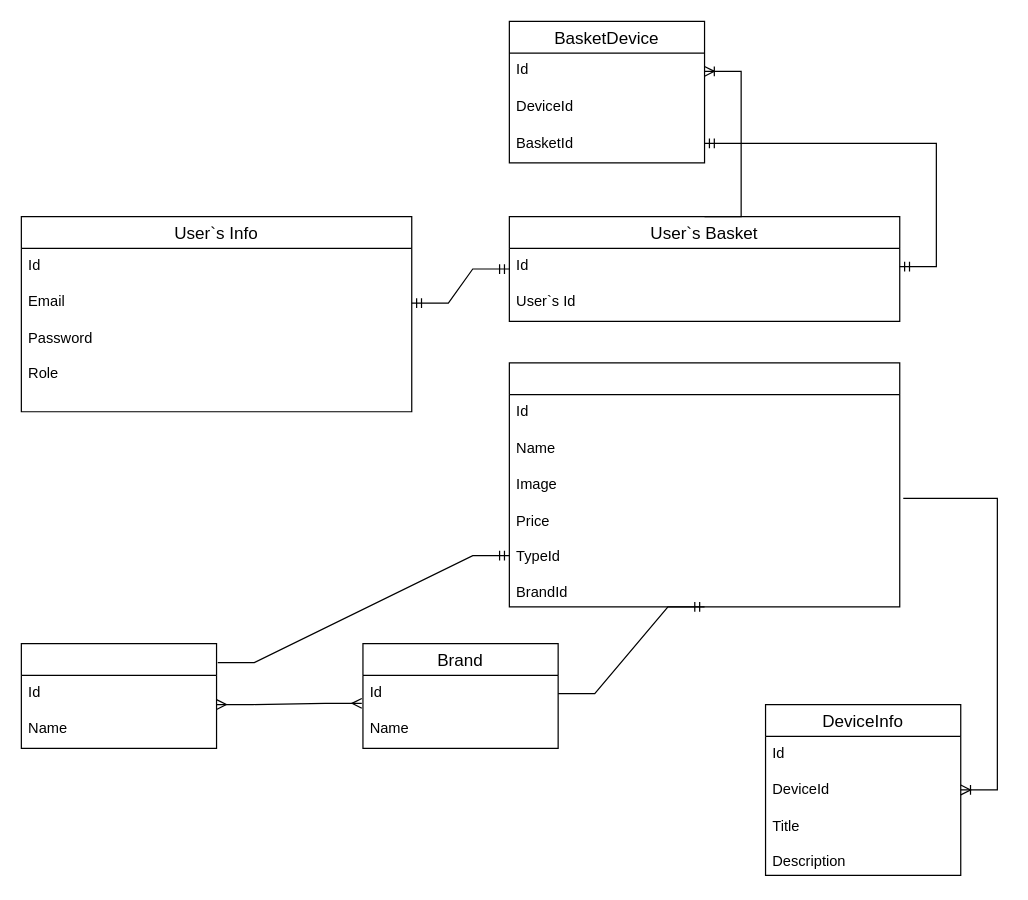
This 1028x900 diagram has some shape labels left out. The shapes that lost their labels are listed below. From the top down, each one's box as (x1, y1, x2, y2) in pixels, then its label:
(508, 362, 900, 607): Device
(20, 642, 217, 748): Type
